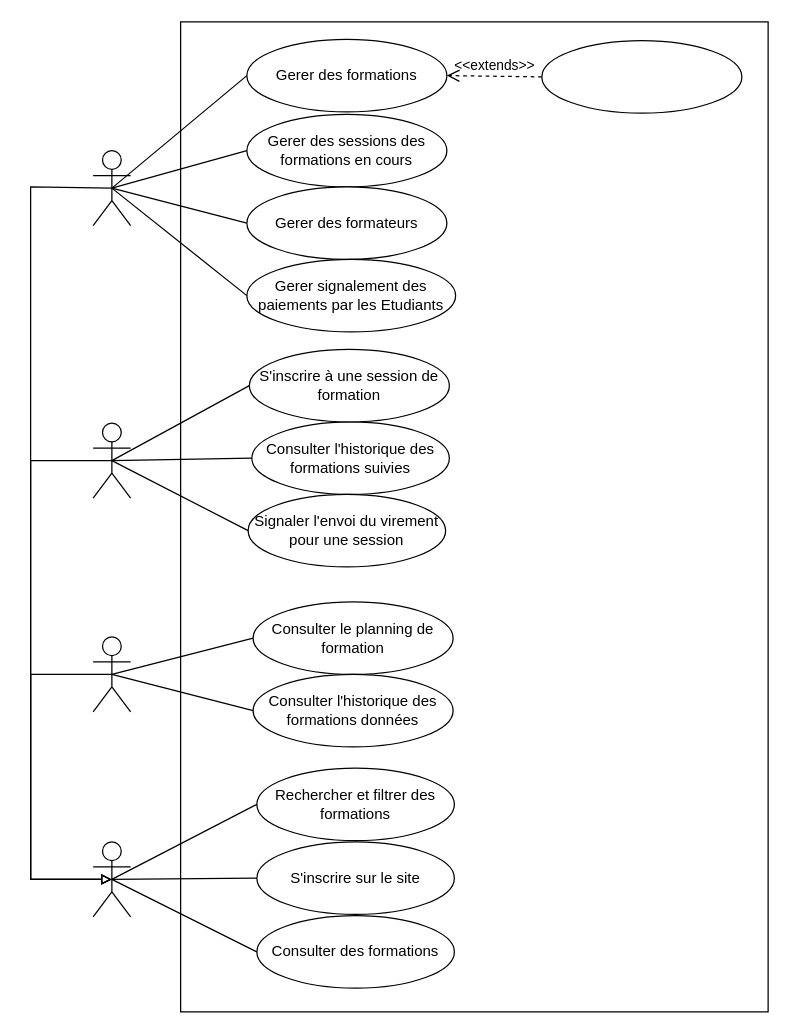
The diagram is 790 pixels wide and 1034 high, and some of its shapes have lost their labels. The centre of each missing label's shape, as x and y in pixels:
"Administrateur" belongs at (111,187).
"Formateur" belongs at (111,674).
"Gerer des sessions des formations" belongs at (641,76).
"Utilisateur" belongs at (111,879).
"Étudiant" belongs at (111,460).
